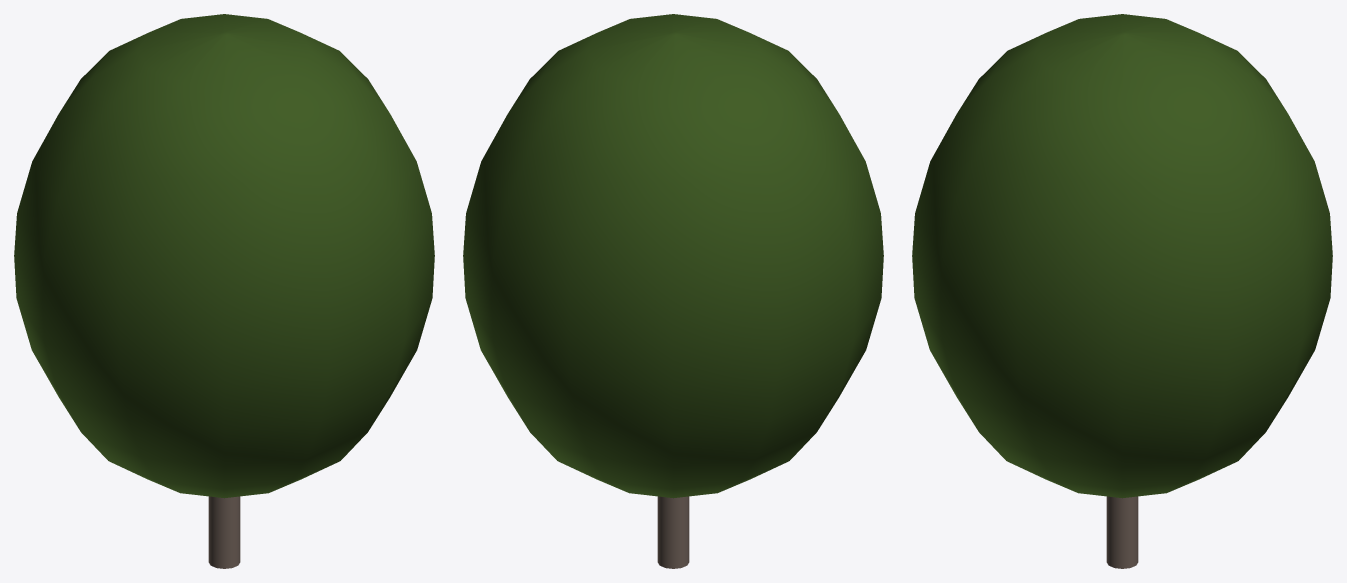
The model's file is Red_Hickory_Analytical_0.obj.
The picture shows the model from 3 angles, left to right: view 1: azimuth 30°, elevation 25°; view 2: azimuth 150°, elevation 25°; view 3: azimuth 270°, elevation 25°; orthographic projection.
Visible parts, largest first — view 1: AnalyticalCrown, AnalyticalTrunk; view 2: AnalyticalCrown, AnalyticalTrunk; view 3: AnalyticalCrown, AnalyticalTrunk.
Part boxes in pixels (x1,y1,x2,y2): AnalyticalCrown: (14,14,434,498); AnalyticalTrunk: (208,496,240,568); AnalyticalCrown: (463,14,883,498); AnalyticalTrunk: (657,496,689,568); AnalyticalCrown: (912,14,1332,498); AnalyticalTrunk: (1106,496,1138,568).
Bounding box in the file's own units: 18.04 × 25 × 18.04.
